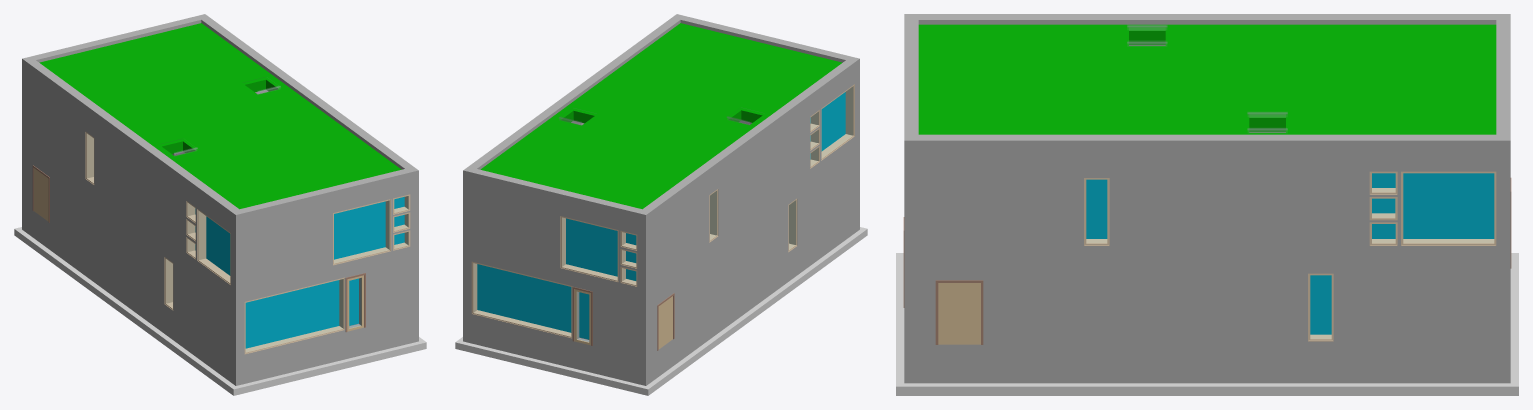
Rendered from Duplex.ifc.IfcConvert.glb.
3 views of the same model, side by side, from view 1: azimuth 30°, elevation 25°; view 2: azimuth 150°, elevation 25°; view 3: azimuth 270°, elevation 25° (orthographic). The views are drawn at different scales.
Visible parts, largest first — view 1: 09g7Eo3WDEihdnsYS1YDoI, 2O2Fr$t4X7Zf8NOew3FNhv, 2O2Fr$t4X7Zf8NOew3FLPP, 2O2Fr$t4X7Zf8NOew3FLOH, 2O2Fr$t4X7Zf8NOew3FNr2, 2O2Fr$t4X7Zf8NOew3FKE5, 2O2Fr$t4X7Zf8NOew3FKEr, 0BTBFw6f90Nfh9rP1dlXr2, 0jf0rYHfX3RAB3bSIRjmr1, 0jf0rYHfX3RAB3bSIRjmoa, 0BTBFw6f90Nfh9rP1dlXrb, 0jf0rYHfX3RAB3bSIRjmpw (+12 smaller); view 2: 09g7Eo3WDEihdnsYS1YDoI, 2O2Fr$t4X7Zf8NOew3FNhv, 2O2Fr$t4X7Zf8NOew3FLPP, 2O2Fr$t4X7Zf8NOew3FLQD, 2O2Fr$t4X7Zf8NOew3FNtn, 2O2Fr$t4X7Zf8NOew3FKE5, 2O2Fr$t4X7Zf8NOew3FK80, 0BTBFw6f90Nfh9rP1dl_CZ, 0jf0rYHfX3RAB3bSIRjmr1, 0jf0rYHfX3RAB3bSIRjmmy, 0BTBFw6f90Nfh9rP1dl_39, 0kF45Qs8L9PAM9kmb1lT5t (+11 smaller); view 3: 09g7Eo3WDEihdnsYS1YDoI, 2O2Fr$t4X7Zf8NOew3FNqI, 2O2Fr$t4X7Zf8NOew3FLR9, 2O2Fr$t4X7Zf8NOew3FK9N, 0jf0rYHfX3RAB3bSIRjmpw, 0kF45Qs8L9PAM9kmb1lT5d, 0BTBFw6f90Nfh9rP1dlXrc, 0jf0rYHfX3RAB3bSIRjmr1, 1hOSvn6df7F8_7GcBWlRGQ, 0jf0rYHfX3RAB3bSIRjmmy, 0jf0rYHfX3RAB3bSIRjmoa, 2O2Fr$t4X7Zf8NOew3FNtn (+8 smaller).
Boxes of the visible parts, left/top/right/bottom form: 09g7Eo3WDEihdnsYS1YDoI: left=39, top=23, right=401, bottom=209; 2O2Fr$t4X7Zf8NOew3FNhv: left=27, top=139, right=230, bottom=354; 2O2Fr$t4X7Zf8NOew3FLPP: left=22, top=72, right=235, bottom=291; 2O2Fr$t4X7Zf8NOew3FLOH: left=236, top=183, right=418, bottom=291; 2O2Fr$t4X7Zf8NOew3FNr2: left=231, top=249, right=410, bottom=358; 2O2Fr$t4X7Zf8NOew3FKE5: left=27, top=206, right=230, bottom=382; 2O2Fr$t4X7Zf8NOew3FKEr: left=231, top=316, right=410, bottom=385; 0BTBFw6f90Nfh9rP1dlXr2: left=245, top=278, right=358, bottom=348; 0jf0rYHfX3RAB3bSIRjmr1: left=27, top=60, right=238, bottom=224; 0jf0rYHfX3RAB3bSIRjmoa: left=231, top=169, right=410, bottom=228; 0BTBFw6f90Nfh9rP1dlXrb: left=334, top=197, right=404, bottom=259; 0jf0rYHfX3RAB3bSIRjmpw: left=201, top=17, right=418, bottom=185; 09g7Eo3WDEihdnsYS1YDoI: left=480, top=23, right=842, bottom=209; 2O2Fr$t4X7Zf8NOew3FNhv: left=651, top=139, right=854, bottom=354; 2O2Fr$t4X7Zf8NOew3FLPP: left=646, top=72, right=859, bottom=291; 2O2Fr$t4X7Zf8NOew3FLQD: left=463, top=183, right=645, bottom=291; 2O2Fr$t4X7Zf8NOew3FNtn: left=463, top=247, right=650, bottom=358; 2O2Fr$t4X7Zf8NOew3FKE5: left=651, top=206, right=854, bottom=382; 2O2Fr$t4X7Zf8NOew3FK80: left=463, top=314, right=650, bottom=385; 0BTBFw6f90Nfh9rP1dl_CZ: left=477, top=264, right=589, bottom=339; 0jf0rYHfX3RAB3bSIRjmr1: left=643, top=60, right=854, bottom=224; 0jf0rYHfX3RAB3bSIRjmmy: left=463, top=167, right=650, bottom=228; 0BTBFw6f90Nfh9rP1dl_39: left=566, top=218, right=636, bottom=280; 0kF45Qs8L9PAM9kmb1lT5t: left=629, top=235, right=856, bottom=395; 09g7Eo3WDEihdnsYS1YDoI: left=918, top=24, right=1496, bottom=134; 2O2Fr$t4X7Zf8NOew3FNqI: left=904, top=249, right=1496, bottom=344; 2O2Fr$t4X7Zf8NOew3FLR9: left=904, top=159, right=1510, bottom=248; 2O2Fr$t4X7Zf8NOew3FK9N: left=904, top=344, right=1496, bottom=383; 0jf0rYHfX3RAB3bSIRjmpw: left=904, top=134, right=1496, bottom=159; 0kF45Qs8L9PAM9kmb1lT5d: left=896, top=373, right=1518, bottom=395; 0BTBFw6f90Nfh9rP1dlXrc: left=1372, top=173, right=1494, bottom=238; 0jf0rYHfX3RAB3bSIRjmr1: left=918, top=14, right=1496, bottom=24; 1hOSvn6df7F8_7GcBWlRGQ: left=935, top=280, right=983, bottom=344; 0jf0rYHfX3RAB3bSIRjmmy: left=1496, top=14, right=1510, bottom=159; 0jf0rYHfX3RAB3bSIRjmoa: left=904, top=14, right=918, bottom=134; 2O2Fr$t4X7Zf8NOew3FNtn: left=1496, top=249, right=1510, bottom=344.
Bounding box in the file's own units: 9.28 × 8.18 × 18.28.
